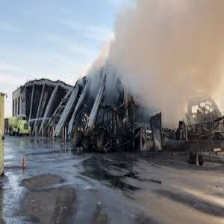smoke: (117, 1, 224, 110)
